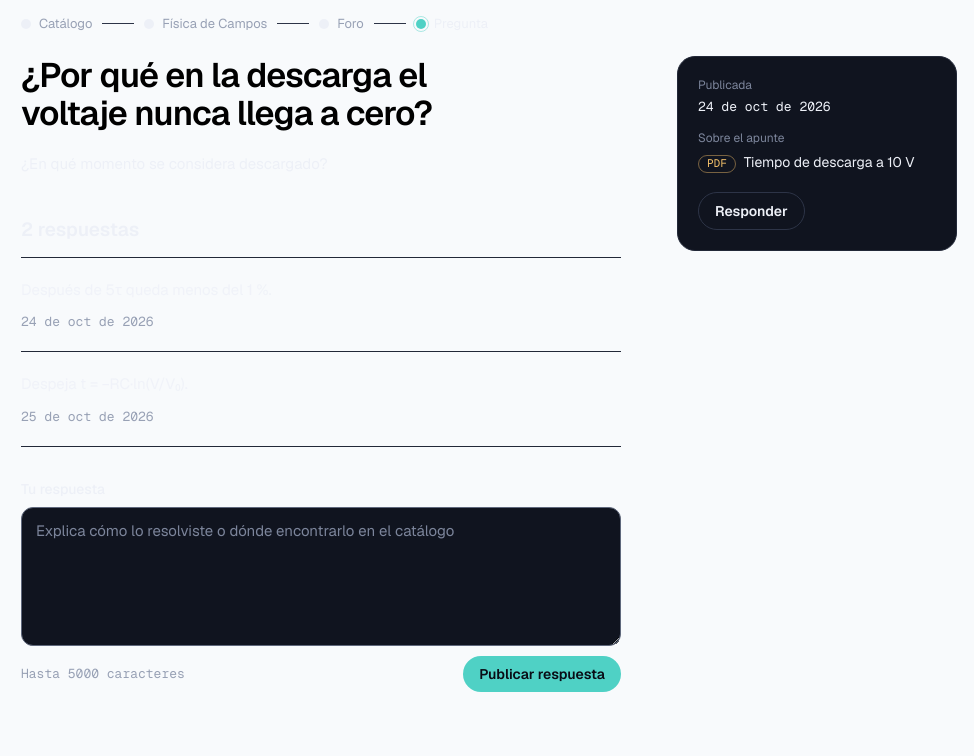
Test: QuestionPage › con sesión publica una respuesta al final del hilo, le pasa el foco y lo anuncia
Expected: the heading "¿Por qué en la descarga el voltaje nunca llega a cero?" is shown, 21,52 -> 432,135
Click the button "Responder".
click(751, 211)  # box 698,192 -> 805,230
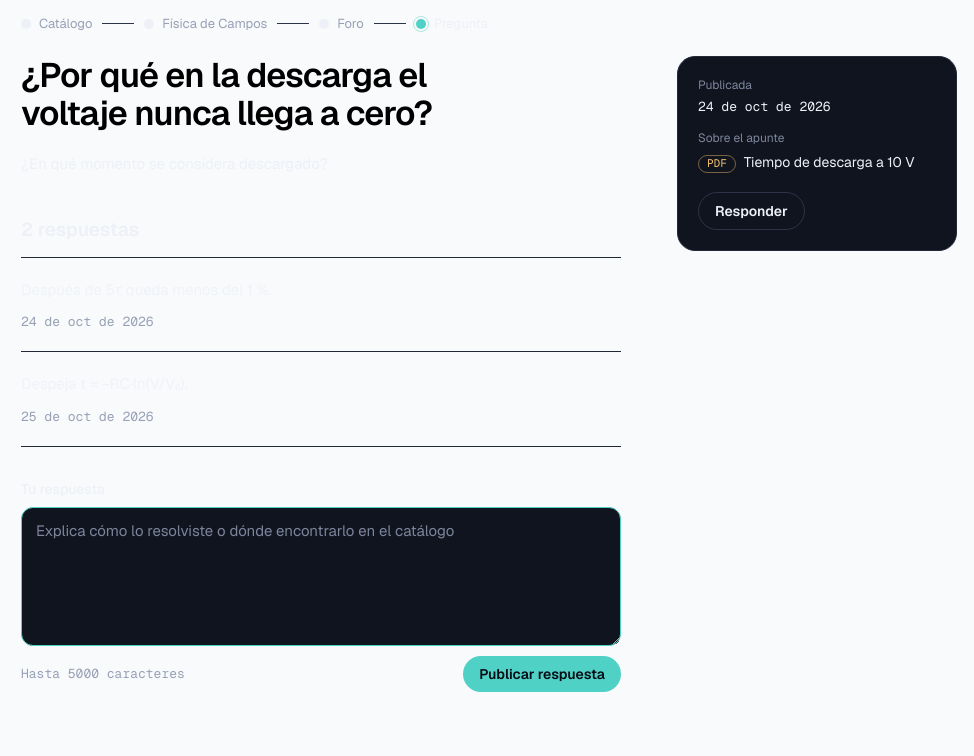
Replace the text in the text box labelled "Tu respuesta" with "  Mi respuesta  " at (321, 577), box 21,507 -> 621,646
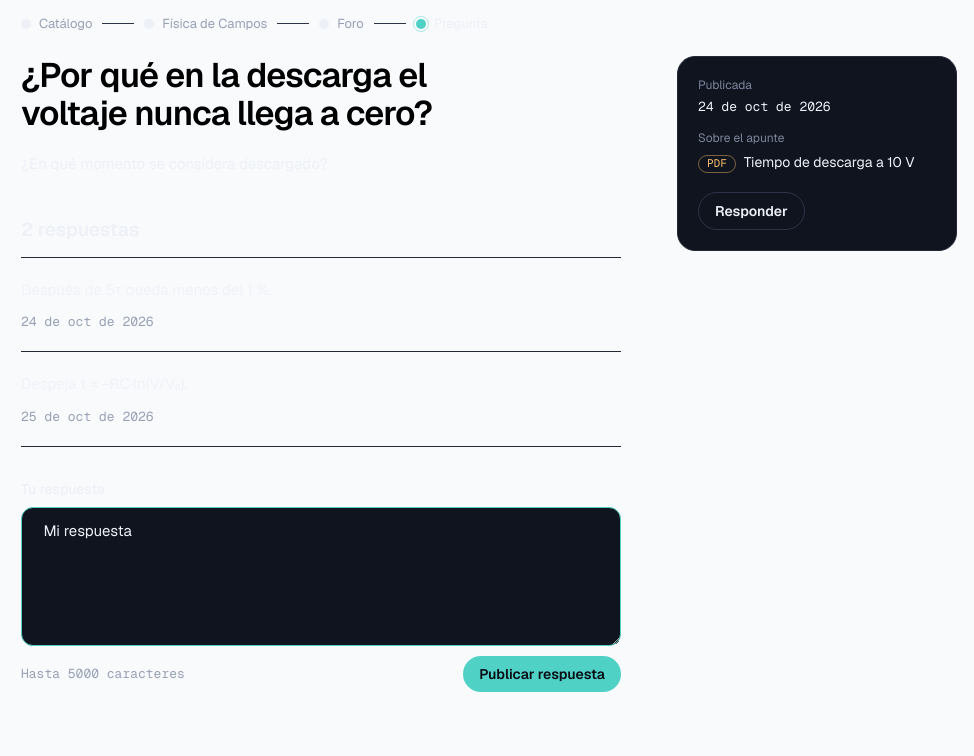
Click the button "Publicar respuesta".
click(542, 674)  # box 463,656 -> 621,692
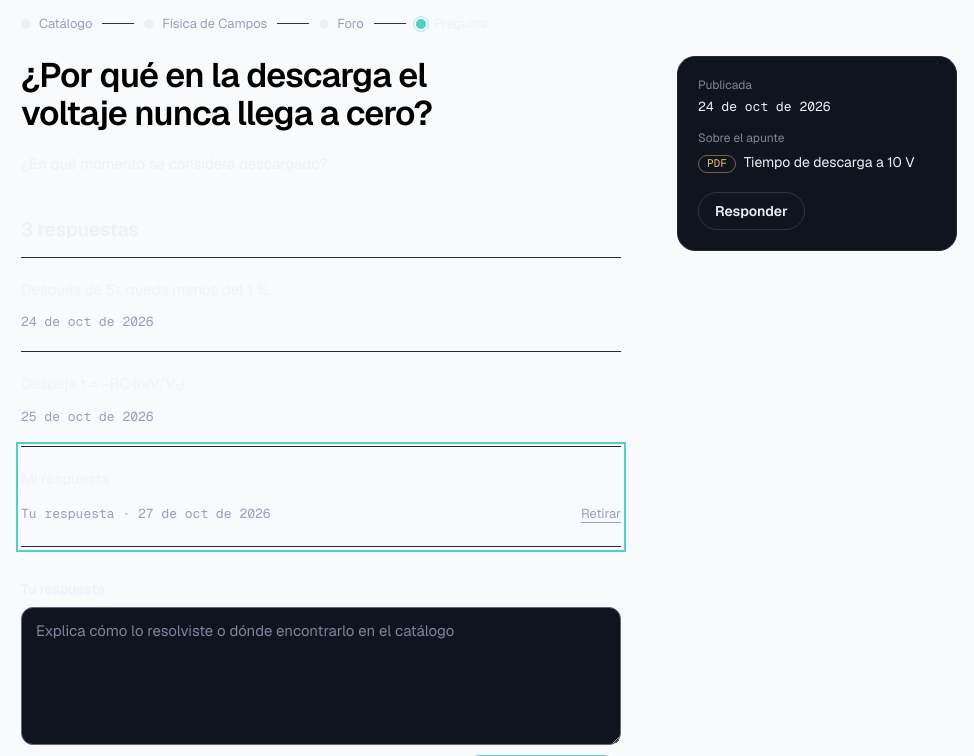
Expected: the heading "3 respuestas" is shown, 21,216 -> 621,258
Now the element showing "Mi respuesta Tu respuesta · 27 de oct de 2026 Retirar" is shown, box 21,447 -> 621,547
Now the text box labelled "Tu respuesta" is empty, box 21,607 -> 621,745
